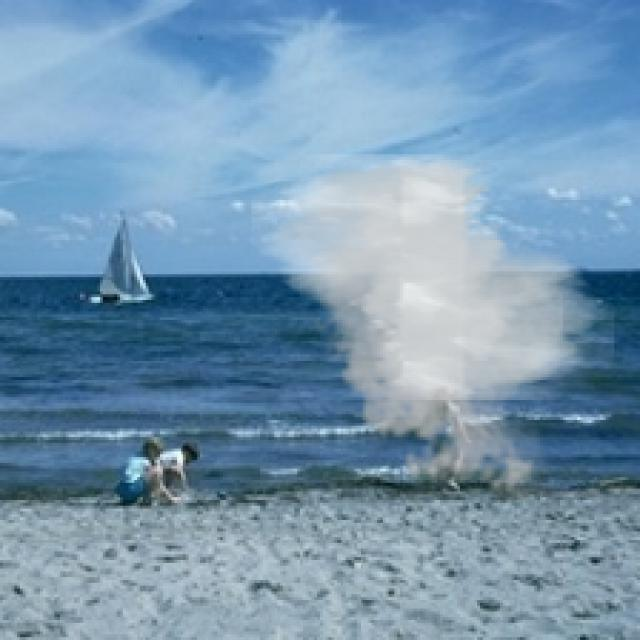smoke: (252, 154, 614, 503)
